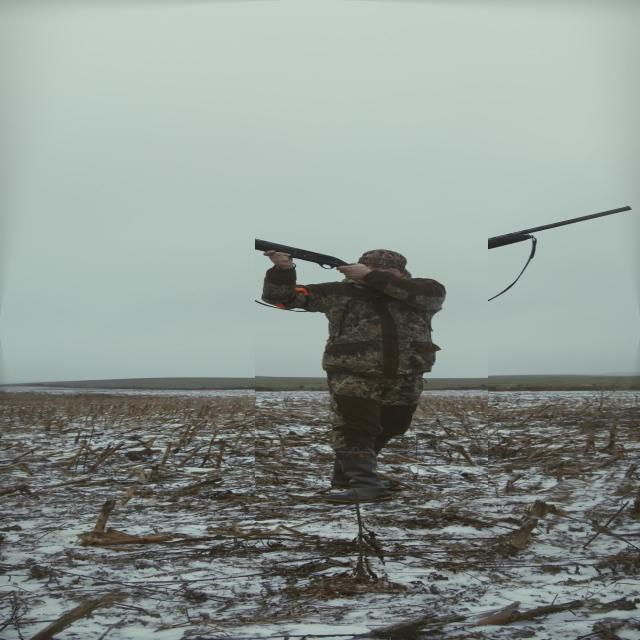poacher: (255, 224, 488, 488)
weapon: (396, 204, 640, 269)
